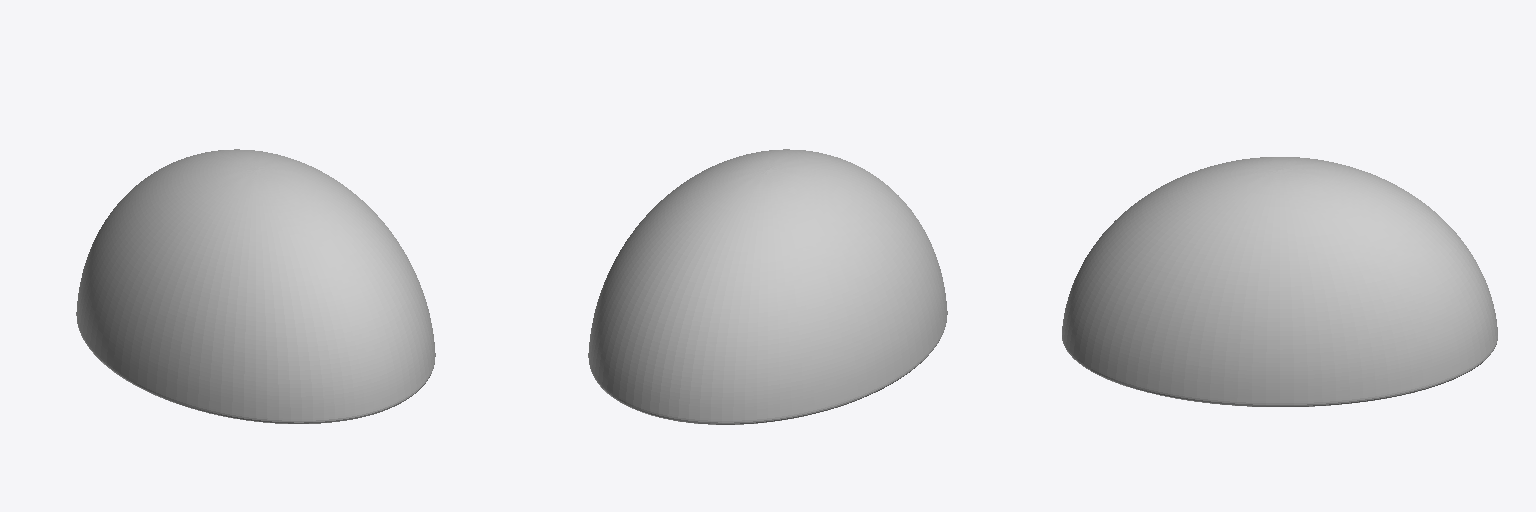
The model's file is footL.obj.
3 renders of one model, left to right at view 1: azimuth 30°, elevation 25°; view 2: azimuth 150°, elevation 25°; view 3: azimuth 270°, elevation 25°, orthographic.
Parts seen in each view (by area): view 1: polySurface12 uploads_files_[number redacted]_Guts_man:Mesh; view 2: polySurface12 uploads_files_[number redacted]_Guts_man:Mesh; view 3: polySurface12 uploads_files_[number redacted]_Guts_man:Mesh.
Part boxes in pixels (bbox=[...]): polySurface12 uploads_files_[number redacted]_Guts_man:Mesh: bbox=[76, 149, 435, 423]; polySurface12 uploads_files_[number redacted]_Guts_man:Mesh: bbox=[588, 149, 947, 424]; polySurface12 uploads_files_[number redacted]_Guts_man:Mesh: bbox=[1062, 157, 1497, 406].
Bounding box in the file's own units: 0.4894 × 0.2818 × 0.6486.